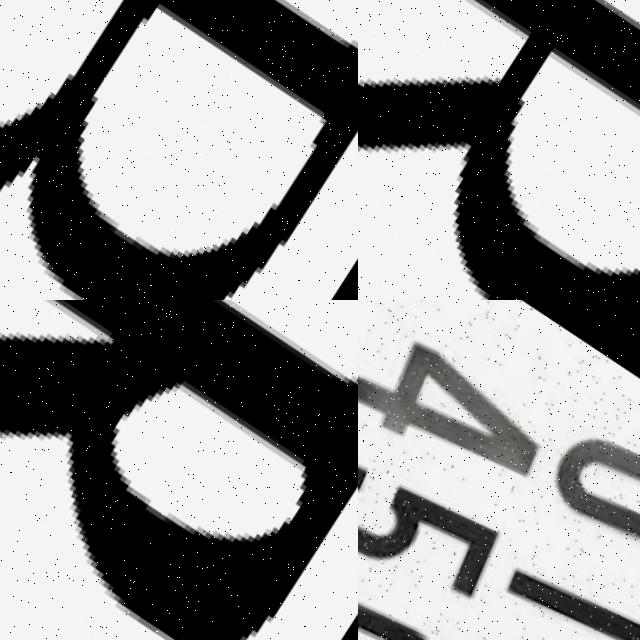0: (519, 394, 640, 622)
1: (478, 508, 640, 640)
4: (358, 300, 582, 534)
5: (358, 411, 520, 640)
6: (358, 523, 471, 640)
R: (0, 300, 358, 640), (358, 0, 640, 300)
